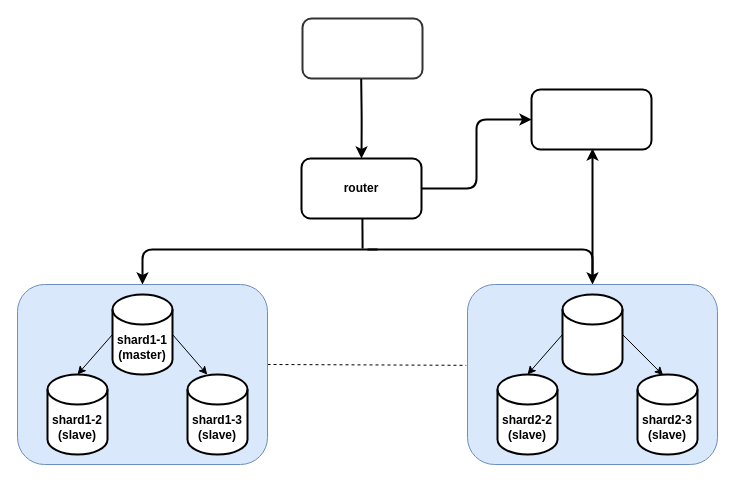
The diagram is 735 pixels wide and 482 high, and some of its shapes have lost their labels. The shapes that lost their labels are listed below. From the top down, each one's centre as x and y in pixels, then its label:
(x=362, y=48): pymongo-api
(x=591, y=119): configSrv
(x=592, y=334): shard2-1 (master)
